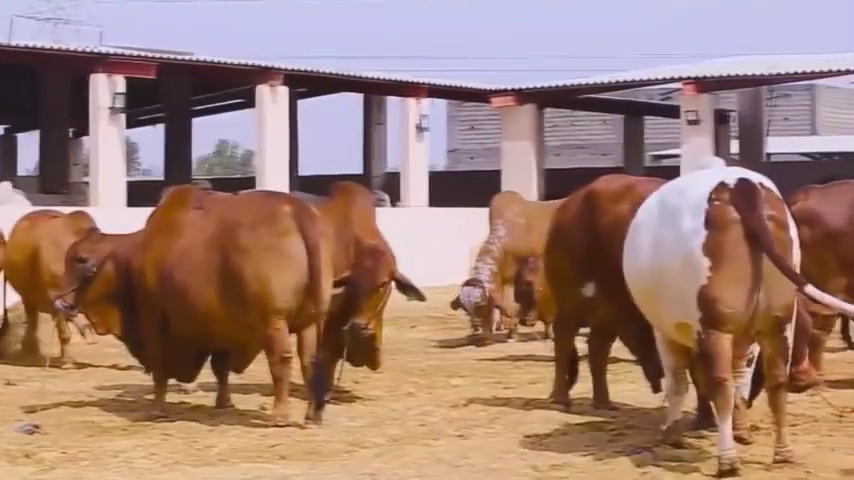bo: (52, 175, 326, 427), (617, 160, 807, 476), (529, 163, 647, 417), (302, 166, 436, 374), (443, 180, 552, 354), (6, 196, 109, 372), (783, 172, 854, 396), (506, 243, 556, 351)
